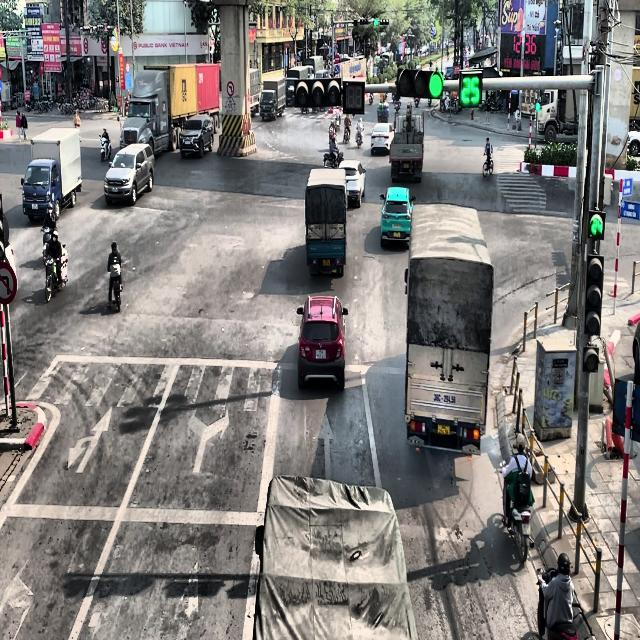lisence_plate: (432, 393, 458, 406), (436, 422, 451, 436), (314, 348, 327, 360), (320, 256, 331, 268), (391, 229, 401, 238), (401, 149, 411, 154), (403, 162, 409, 168)
